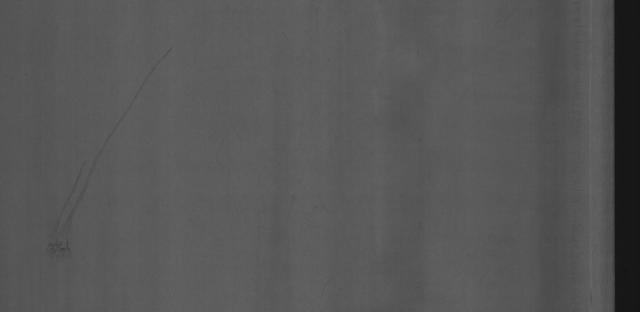water_spot: (31, 135, 122, 268)
